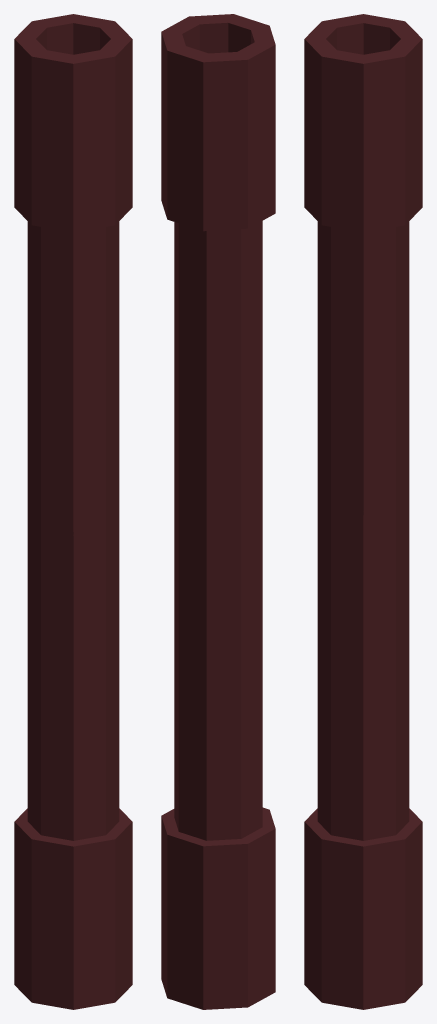
The model's file is Junk_9.fbx.
The picture shows the model from 3 angles, left to right: view 1: azimuth 90°, elevation 25°; view 2: azimuth 210°, elevation 25°; view 3: azimuth 270°, elevation 25°; orthographic projection.
Visible parts, largest first — view 1: Cylinder.007; view 2: Cylinder.007; view 3: Cylinder.007.
Part boxes in pixels (left/top/right/bottom): Cylinder.007: left=14, top=14, right=132, bottom=1009; Cylinder.007: left=161, top=14, right=275, bottom=1009; Cylinder.007: left=304, top=14, right=422, bottom=1009.
Bounding box in the file's own units: 22.62 × 200 × 22.62.
